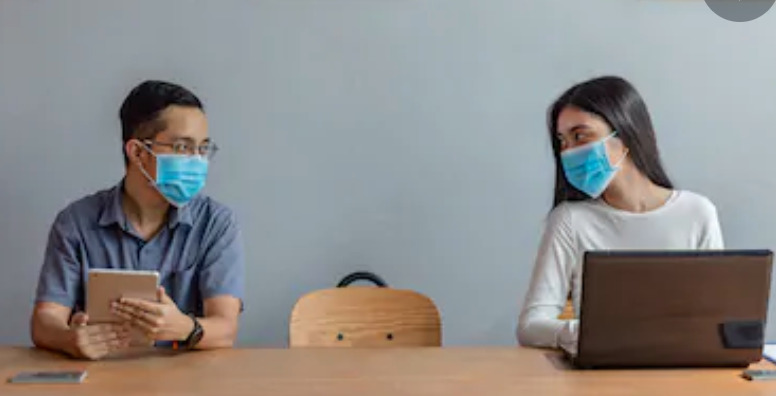Caution: (32, 75, 725, 358)
